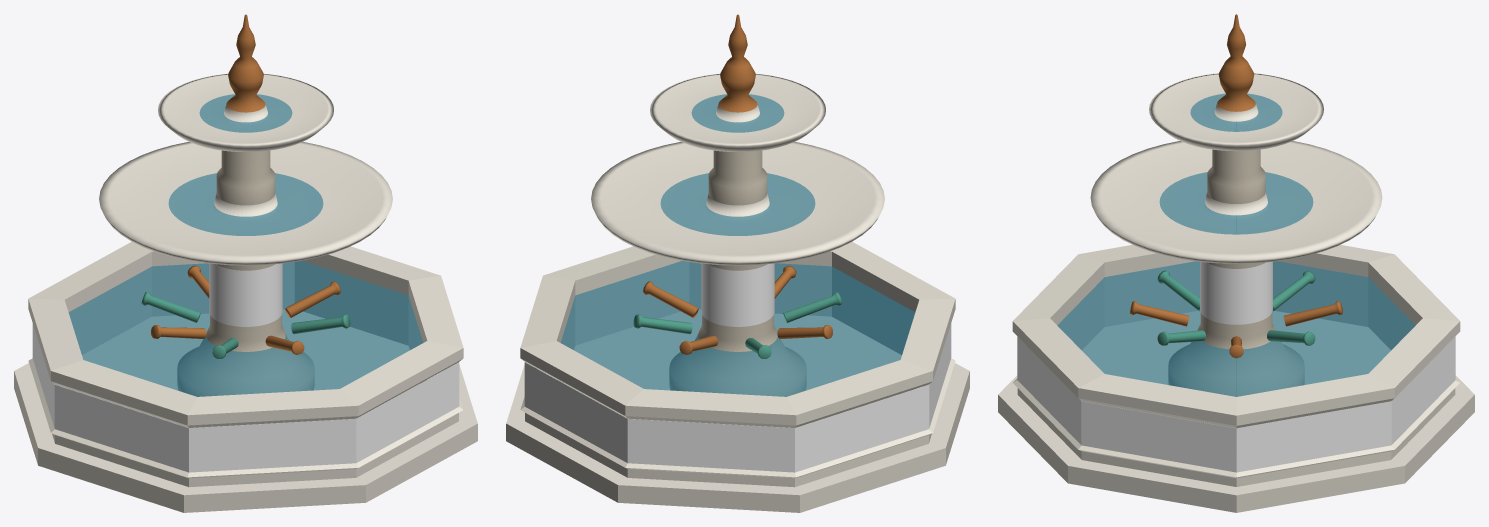
File: fountain-ottoman-lod0.glb
The picture shows the model from 3 angles, left to right: view 1: azimuth 30°, elevation 25°; view 2: azimuth 150°, elevation 25°; view 3: azimuth 270°, elevation 25°; orthographic projection.
Visible parts, largest first — view 1: basin, waterBasin, bowlMid, basinBand, column, bowlTop, waterMid, columnBand, finial, waterTop, spout1, spout0 (+2 smaller); view 2: basin, waterBasin, bowlMid, basinBand, column, bowlTop, waterMid, columnBand, finial, waterTop, spout7, spout0 (+2 smaller); view 3: basin, waterBasin, bowlMid, basinBand, column, bowlTop, waterMid, columnBand, finial, waterTop, spout2, spout6 (+4 smaller).
Boxes of the visible parts, left/top/right/bottom form: basin: left=14, top=241, right=477, bottom=512; waterBasin: left=69, top=261, right=423, bottom=396; bowlMid: left=99, top=142, right=392, bottom=265; basinBand: left=32, top=323, right=459, bottom=472; column: left=177, top=150, right=314, bottom=396; bowlTop: left=158, top=73, right=333, bottom=152; waterMid: left=168, top=173, right=323, bottom=235; columnBand: left=209, top=263, right=282, bottom=326; finial: left=226, top=14, right=265, bottom=112; waterTop: left=199, top=94, right=292, bottom=132; spout1: left=291, top=314, right=350, bottom=334; spout0: left=285, top=281, right=340, bottom=317; basin: left=506, top=241, right=969, bottom=512; waterBasin: left=560, top=261, right=914, bottom=396; bowlMid: left=591, top=142, right=884, bottom=265; basinBand: left=524, top=323, right=951, bottom=472; column: left=669, top=150, right=806, bottom=396; bowlTop: left=650, top=73, right=825, bottom=152; waterMid: left=660, top=173, right=815, bottom=235; columnBand: left=701, top=263, right=774, bottom=326; finial: left=718, top=14, right=757, bottom=112; waterTop: left=691, top=94, right=784, bottom=132; spout7: left=633, top=314, right=692, bottom=334; spout0: left=643, top=281, right=698, bottom=317; basin: left=998, top=245, right=1474, bottom=512; waterBasin: left=1057, top=261, right=1415, bottom=396; bowlMid: left=1090, top=141, right=1382, bottom=263; basinBand: left=1017, top=336, right=1455, bottom=472; column: left=1168, top=149, right=1304, bottom=396; bowlTop: left=1149, top=73, right=1323, bottom=151; waterMid: left=1159, top=172, right=1313, bottom=234; columnBand: left=1200, top=262, right=1272, bottom=324; finial: left=1217, top=14, right=1255, bottom=111; waterTop: left=1190, top=93, right=1282, bottom=131; spout2: left=1130, top=301, right=1189, bottom=326; spout6: left=1283, top=301, right=1342, bottom=326.
Bounding box in the file's own units: 2.94 × 2.71 × 2.94.
